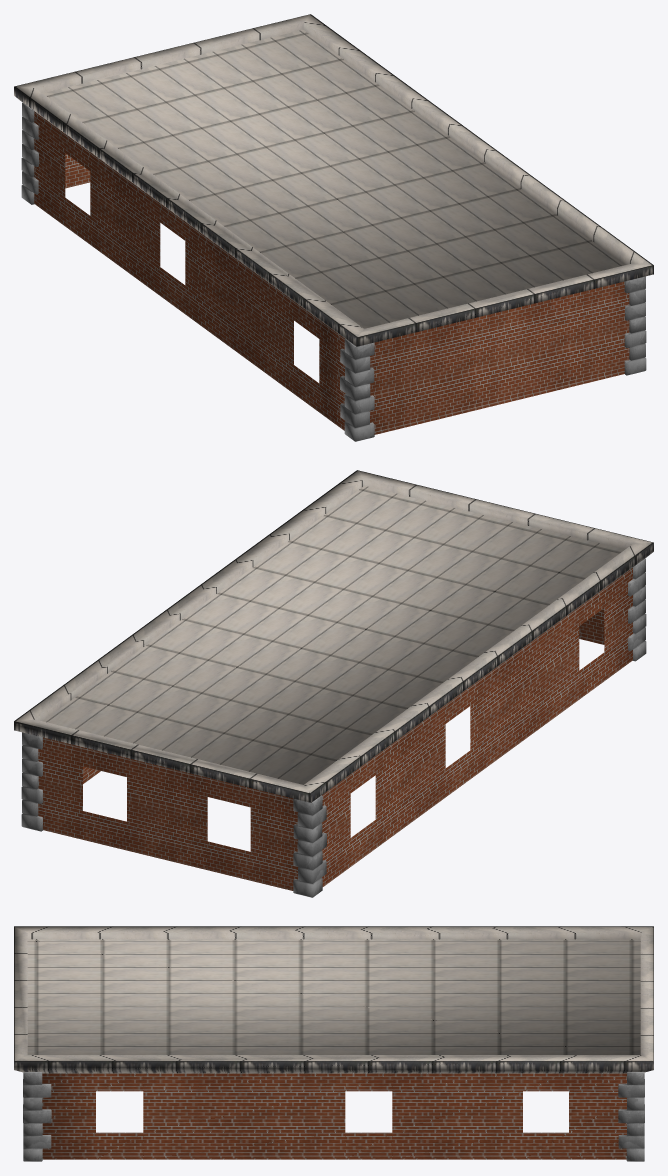
Rendered from floor_ap01.obj.
The picture shows the model from 3 angles, top to bottom: view 1: azimuth 30°, elevation 25°; view 2: azimuth 150°, elevation 25°; view 3: azimuth 270°, elevation 25°; orthographic projection. The views are drawn at different scales.
Parts seen in each view (by area): view 1: teto_Plane.023, bordas_Plane.007; view 2: teto_Plane.023, bordas_Plane.007; view 3: teto_Plane.023, bordas_Plane.007.
Part boxes in pixels (left/top/right/bottom): teto_Plane.023: left=14, top=14, right=653, bottom=346; bordas_Plane.007: left=21, top=102, right=646, bottom=441; teto_Plane.023: left=14, top=470, right=653, bottom=802; bordas_Plane.007: left=21, top=558, right=646, bottom=897; teto_Plane.023: left=14, top=926, right=653, bottom=1073; bordas_Plane.007: left=23, top=1072, right=644, bottom=1161.
Size of the model in its own units: 12.49 by 4.37 by 25.
